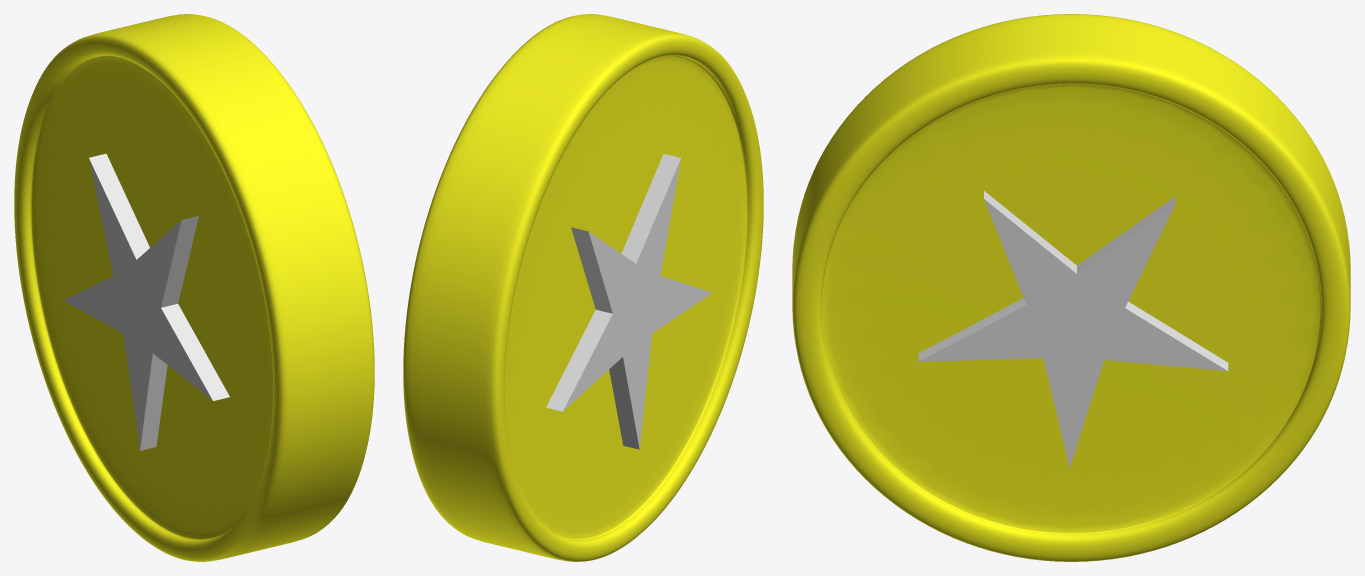
Rendered from gold.fbx.
3 renders of one model, left to right at view 1: azimuth 30°, elevation 25°; view 2: azimuth 150°, elevation 25°; view 3: azimuth 270°, elevation 25°, orthographic. The views are drawn at different scales.
Parts seen in each view (by area): view 1: Cylinder, Circle; view 2: Cylinder, Circle; view 3: Cylinder, Circle.002.
Part boxes in pixels (x1,y1,x2,y2): Cylinder: (14,14,374,561); Circle: (63,153,229,450); Cylinder: (403,14,763,561); Circle: (546,154,712,449); Cylinder: (792,14,1350,561); Circle.002: (918,191,1228,467).
Size of the model in its own units: 46.08 by 199 by 199.
